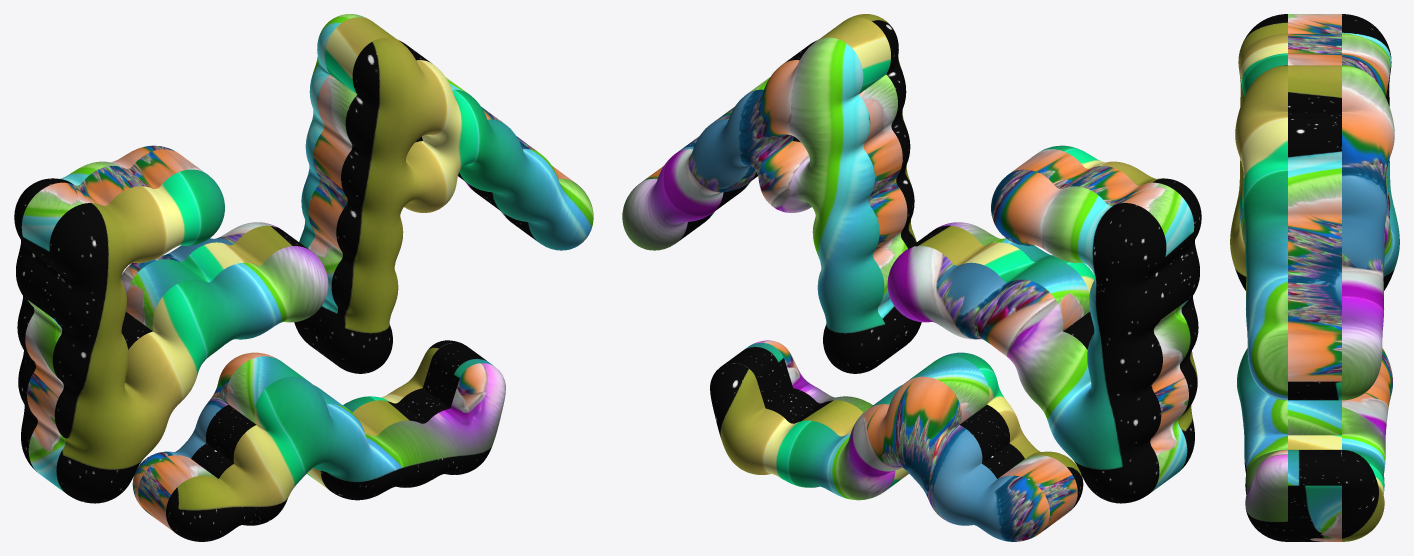
File: textured-hau.glb
3 views of the same model, side by side, from view 1: azimuth 30°, elevation 25°; view 2: azimuth 150°, elevation 25°; view 3: azimuth 270°, elevation 25° (orthographic). The views are drawn at different scales.
Visible parts, largest first — view 1: groupNumber_2, groupNumber_0, groupNumber_1; view 2: groupNumber_2, groupNumber_0, groupNumber_1; view 3: groupNumber_0, groupNumber_1, groupNumber_2.
Boxes of the visible parts, x1,y1,x2,y2 form: groupNumber_2: (14,145,328,503); groupNumber_0: (294,14,593,373); groupNumber_1: (132,340,505,541); groupNumber_2: (887,145,1201,503); groupNumber_0: (622,14,921,373); groupNumber_1: (710,340,1083,541); groupNumber_0: (1235,65,1394,400); groupNumber_1: (1237,348,1392,541); groupNumber_2: (1230,14,1399,290).
Bounding box in the file's own units: 0.0198 × 0.016 × 0.00557.
3 materials, 3 textured.
